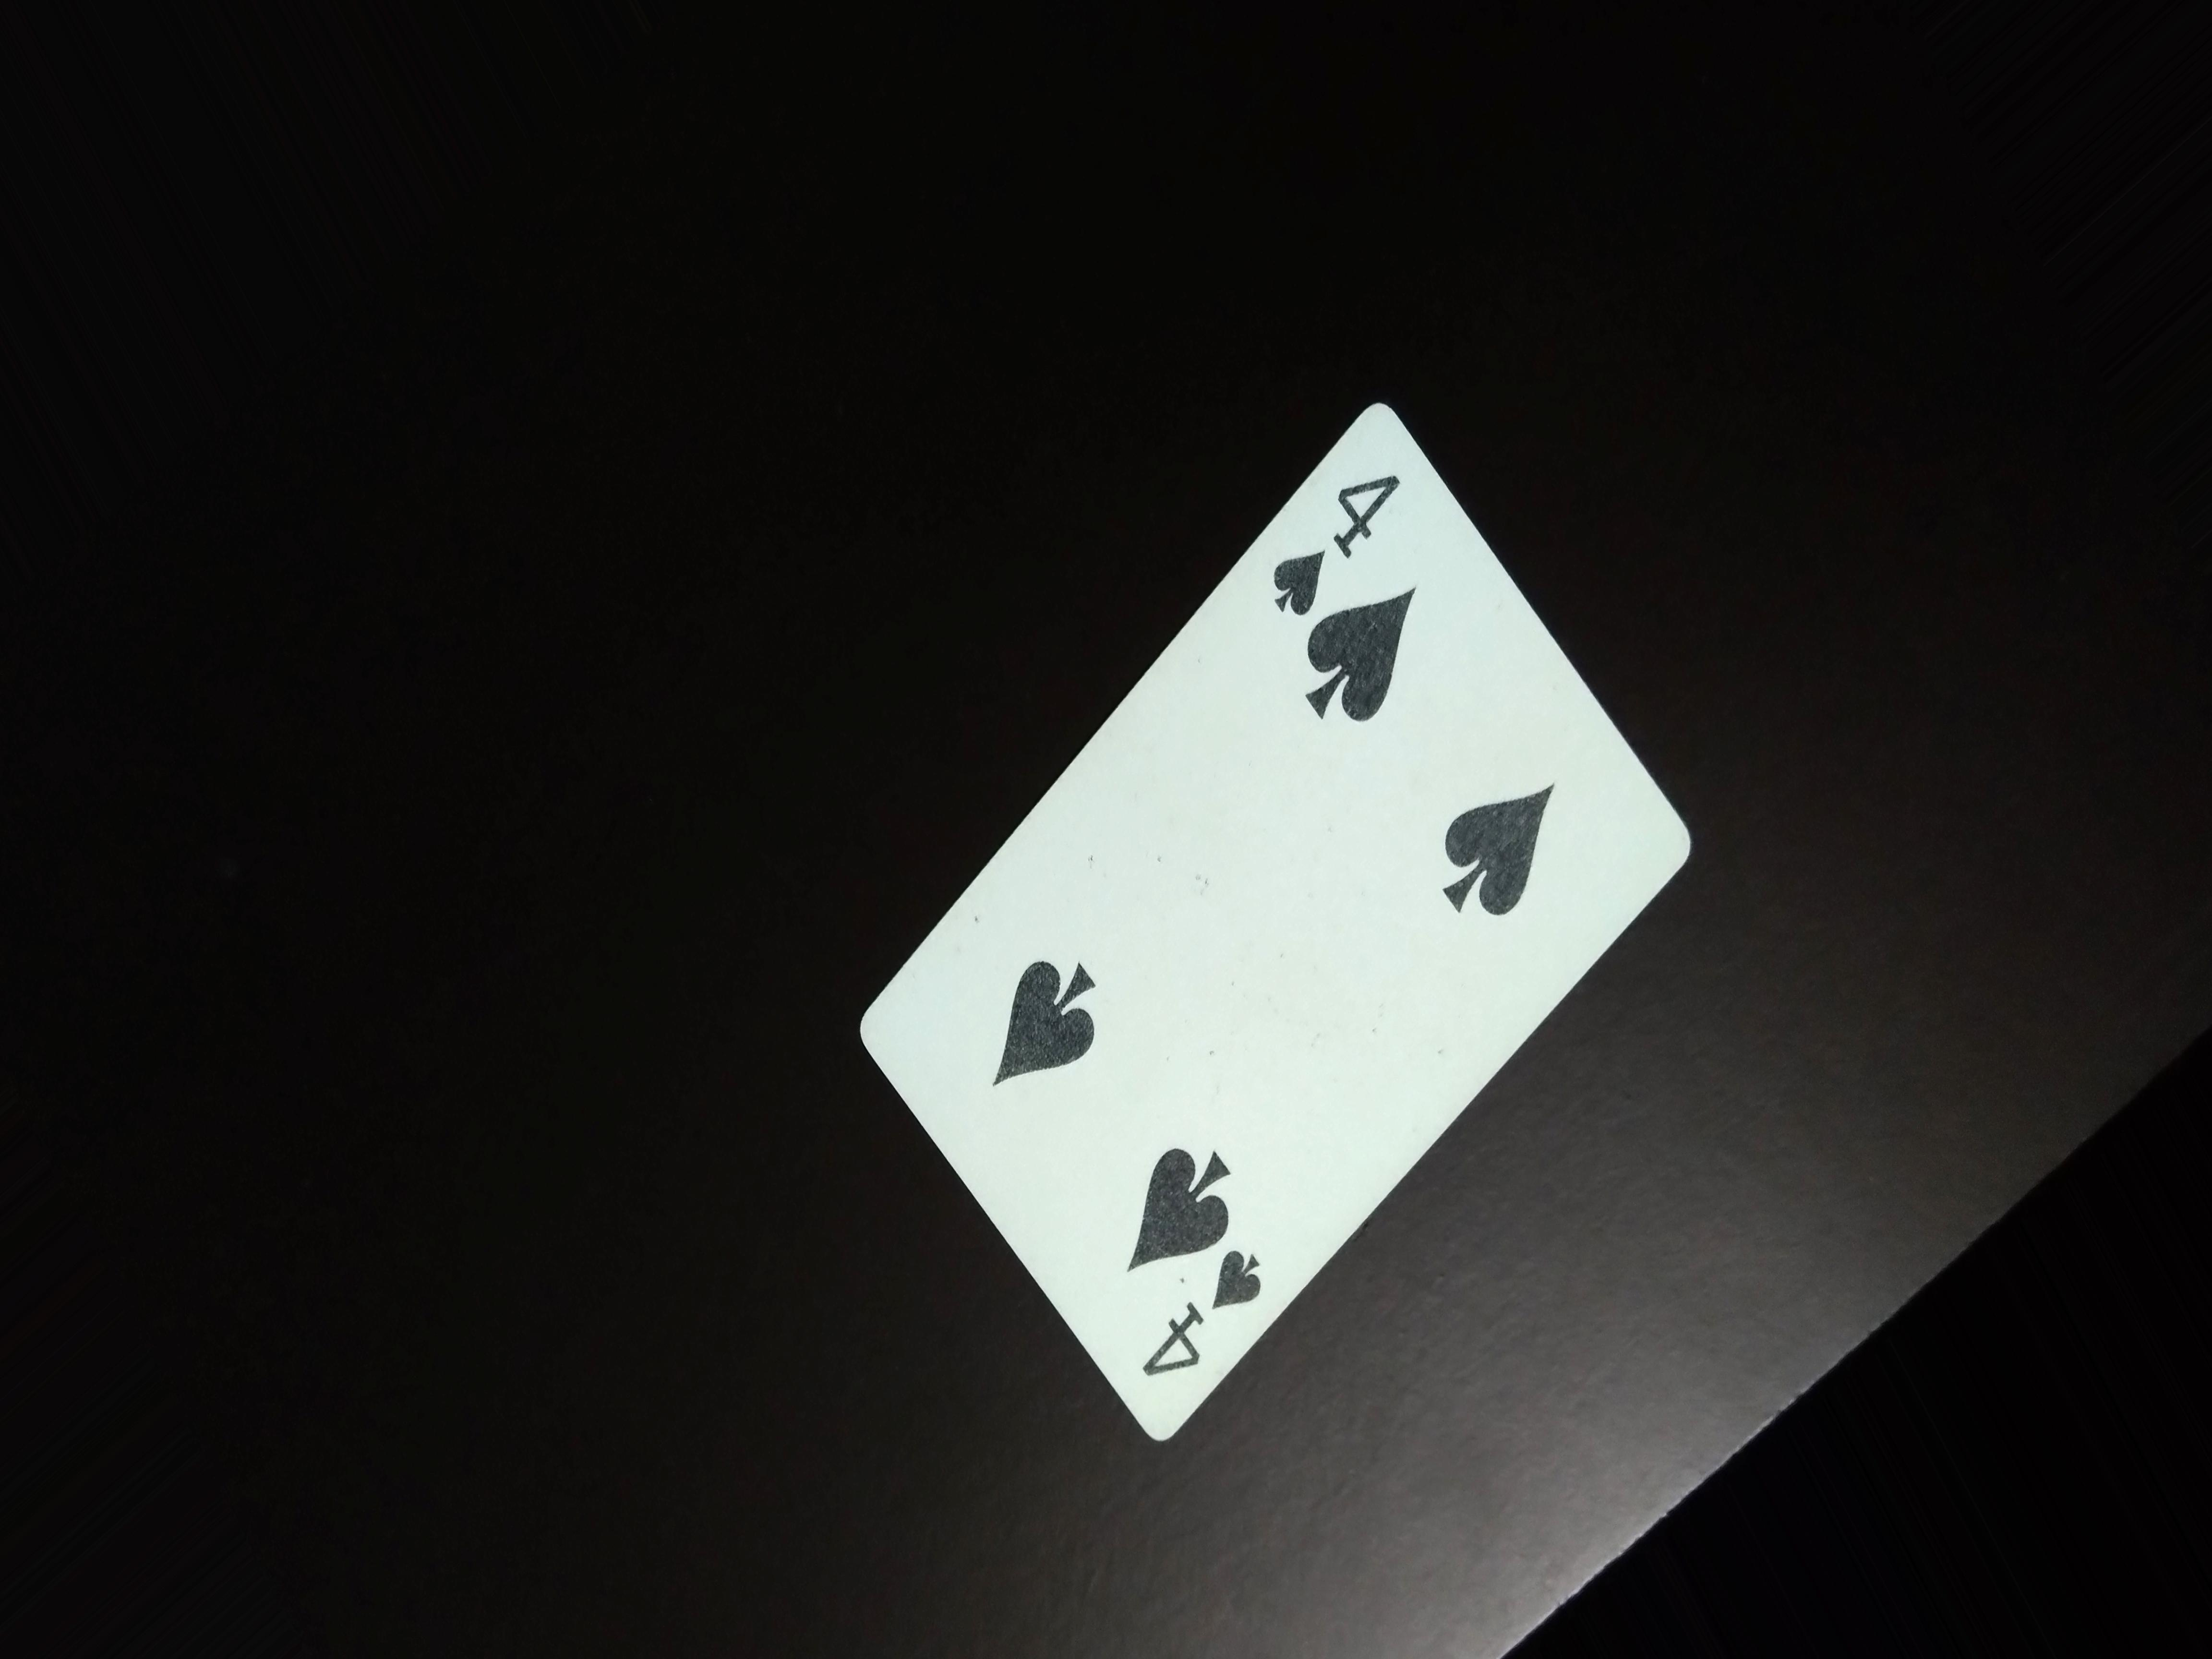4S: (1266, 451, 1402, 648)
